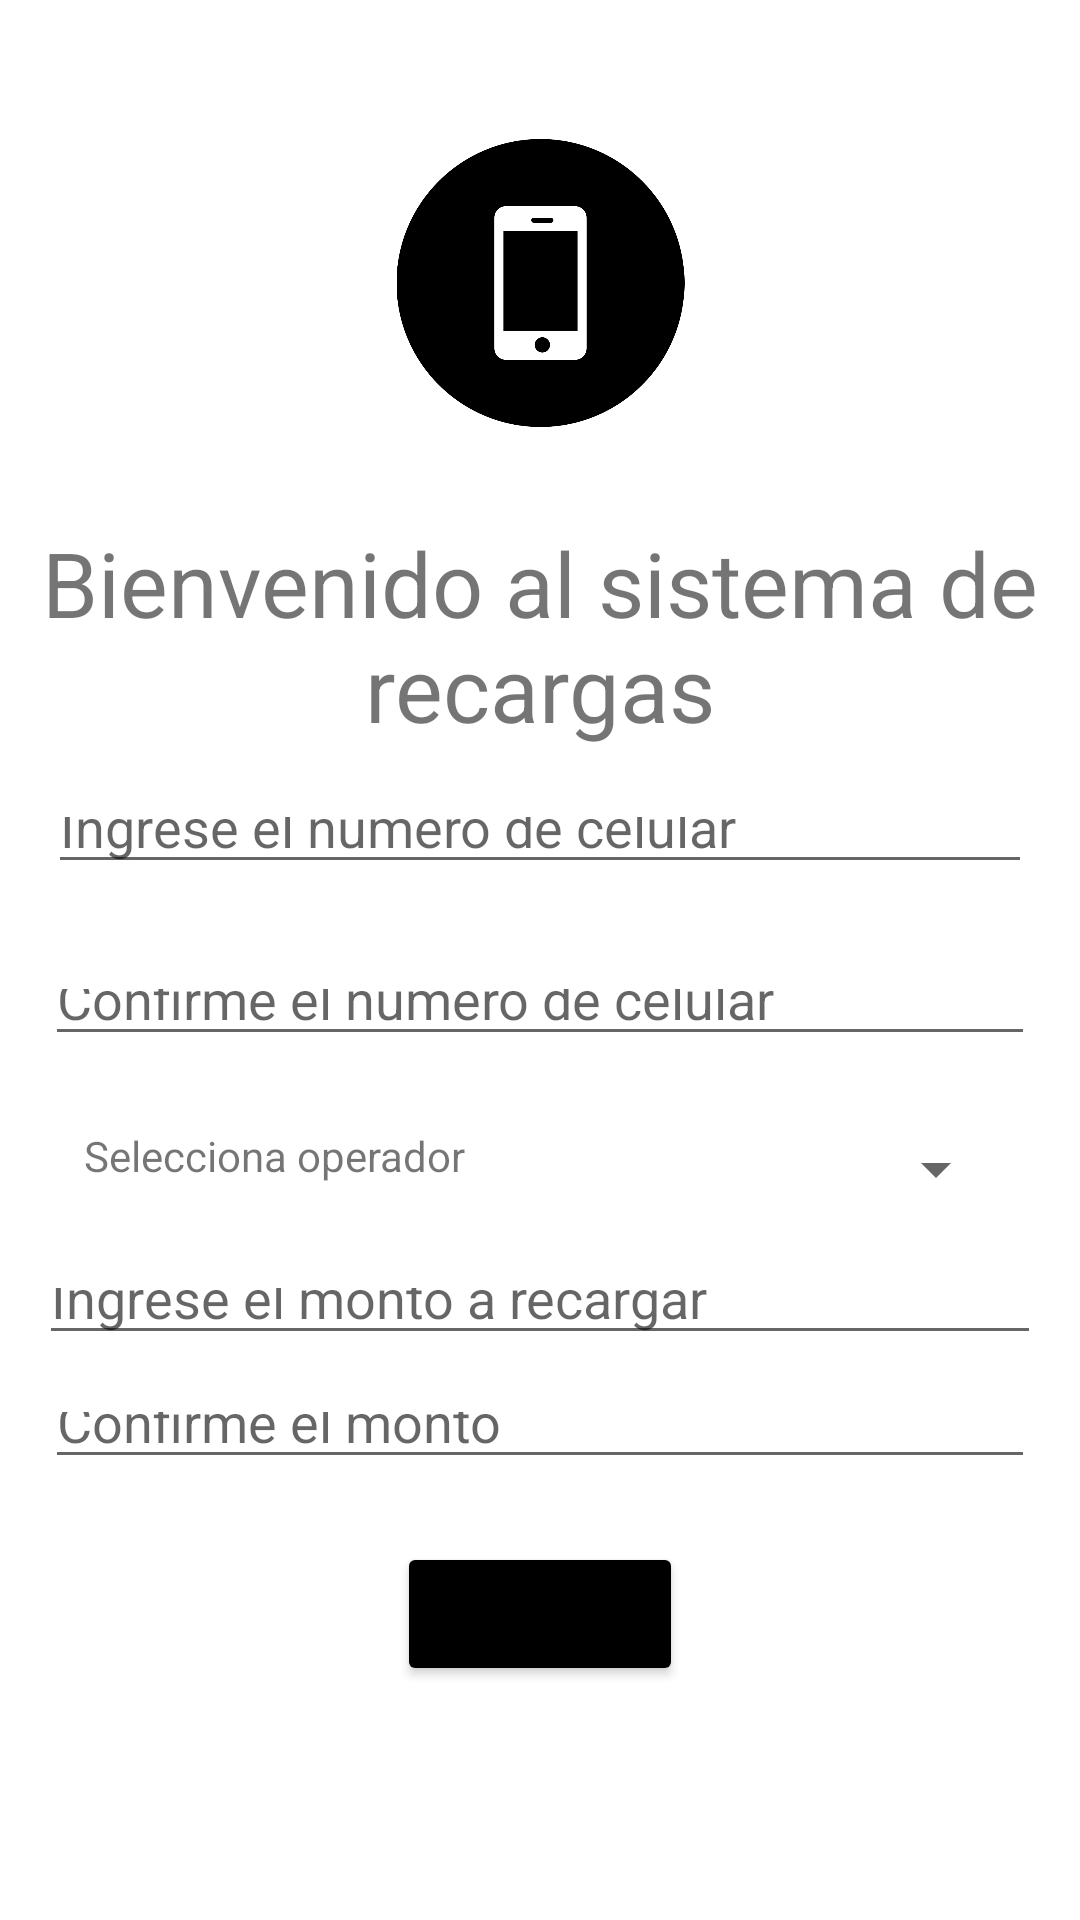

Icon bounding boxes for this 1080w x 1920h phone screenshot, format (x1, y1, x2, y2):
phone: (397, 139, 685, 427)
